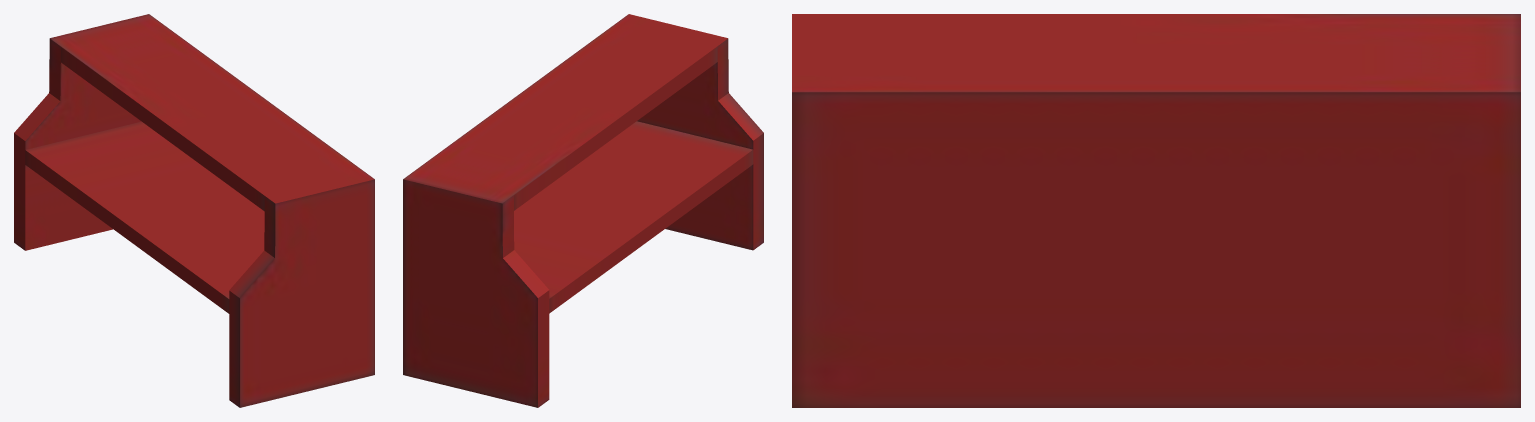
The model's file is escritorio.obj.
3 views of the same model, side by side, from view 1: azimuth 30°, elevation 25°; view 2: azimuth 150°, elevation 25°; view 3: azimuth 270°, elevation 25° (orthographic). The views are drawn at different scales.
Visible parts, largest first — view 1: escritorio_Cube; view 2: escritorio_Cube; view 3: escritorio_Cube.
Boxes of the visible parts, x1,y1,x2,y2 form: escritorio_Cube: [14, 14, 374, 407]; escritorio_Cube: [403, 14, 763, 407]; escritorio_Cube: [792, 14, 1520, 407].
Size of the model in its own units: 2.03 by 2.81 by 5.87.
1 material, 1 textured.
